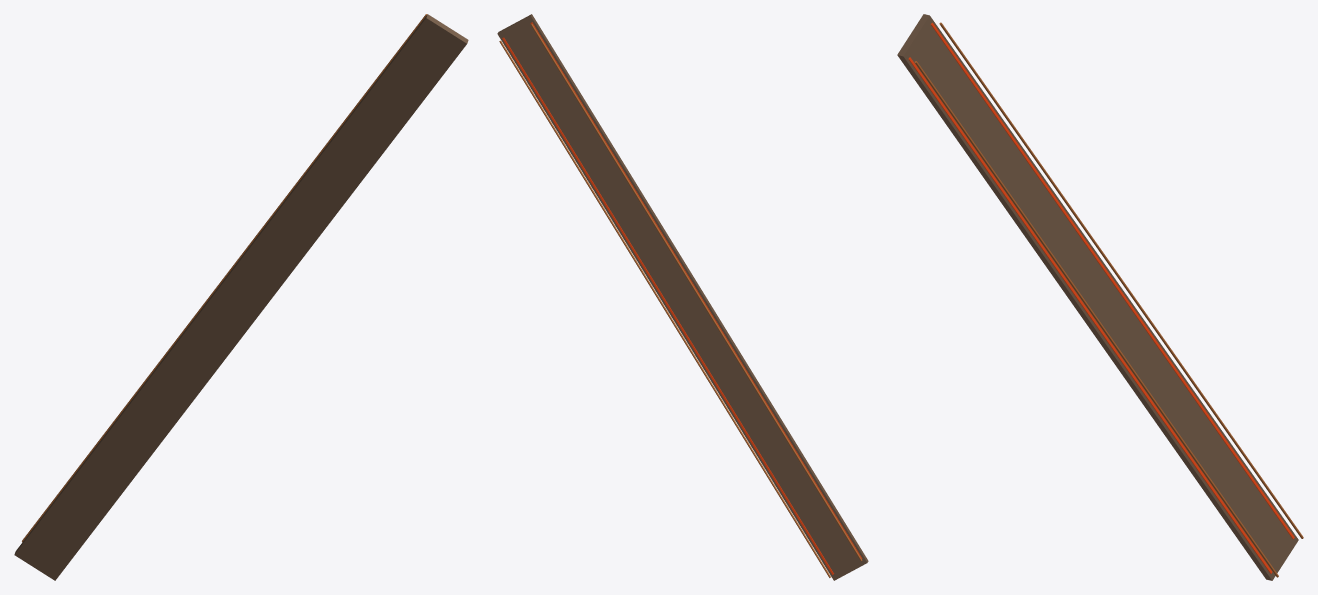
Rendered from glutbruecke.obj.
3 renders of one model, left to right at view 1: azimuth 30°, elevation 25°; view 2: azimuth 210°, elevation 25°; view 3: azimuth 270°, elevation 25°, orthographic. The views are drawn at different scales.
Visible parts, largest first — view 1: Glutbruecke; view 2: Glutbruecke; view 3: Glutbruecke.
Part boxes in pixels (box(x1,y1,x2,y2)): Glutbruecke: box(14, 14, 468, 580); Glutbruecke: box(497, 14, 868, 580); Glutbruecke: box(897, 14, 1303, 580).
Size of the model in its own units: 20.96 by 45.32 by 24.62.
